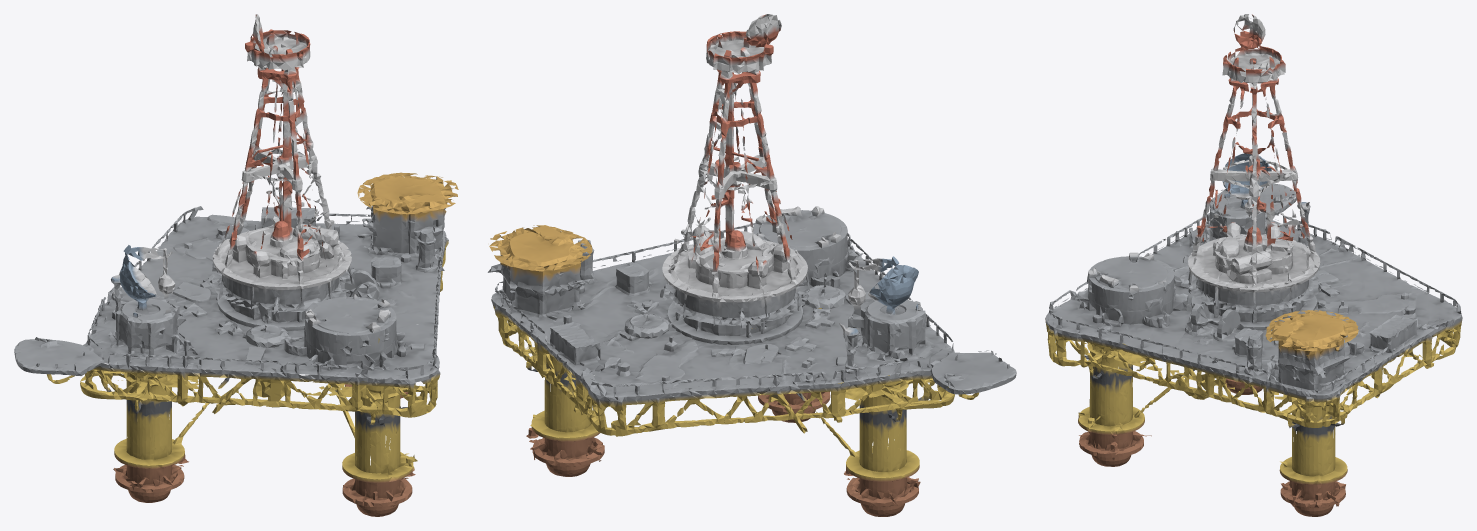
File: c_sea_platform.glb
The picture shows the model from 3 angles, left to right: view 1: azimuth 30°, elevation 25°; view 2: azimuth 150°, elevation 25°; view 3: azimuth 270°, elevation 25°; orthographic projection. The views are drawn at different scales.
Bounding box in the file's own units: 0.9807 × 0.9087 × 0.8069.
